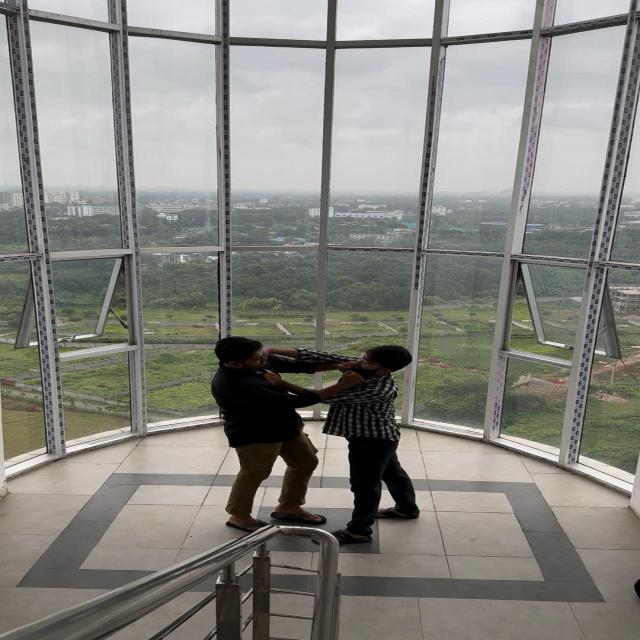fight: (195, 319, 438, 554)
